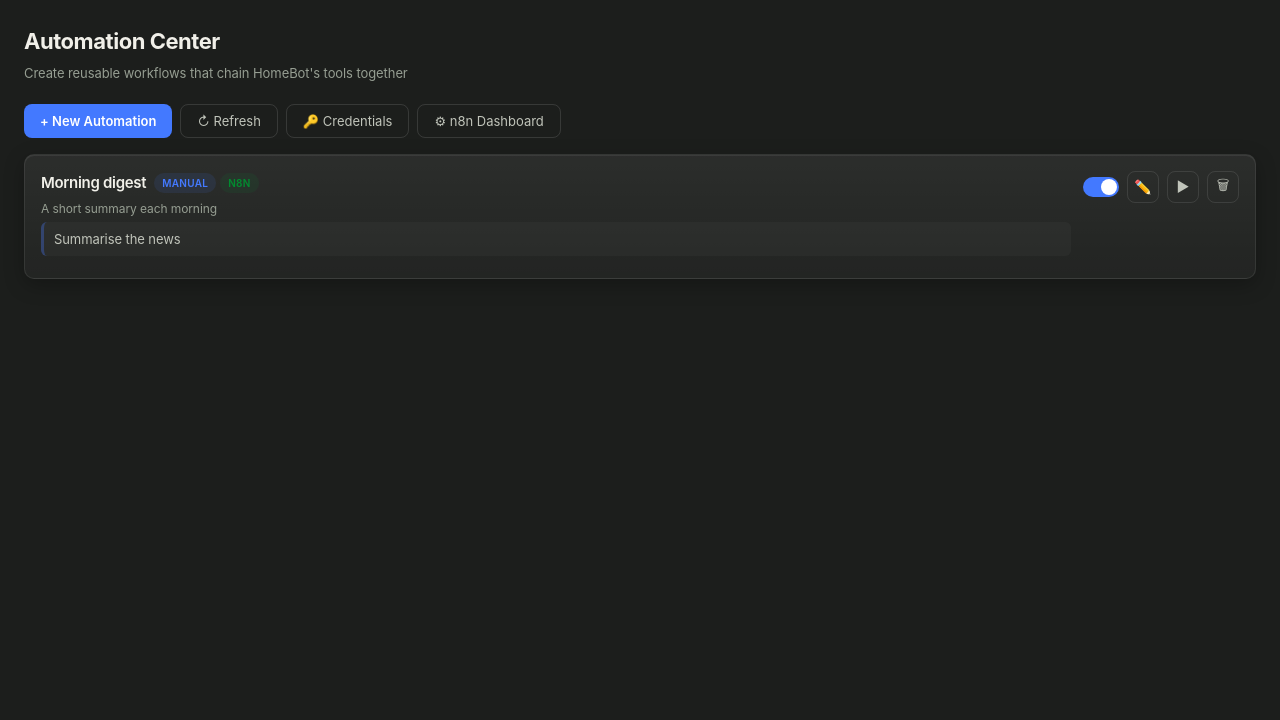
Test case: what actually reaches the handler › an edited description is sent, not just displayed
The width and height of the screenshot is (1280, 720).
Expected: the heading "Morning digest" is shown, [41, 171, 146, 195]
Click the button named "Edit Morning digest". click: {"x": 1143, "y": 187}
box: [1127, 171, 1159, 203]
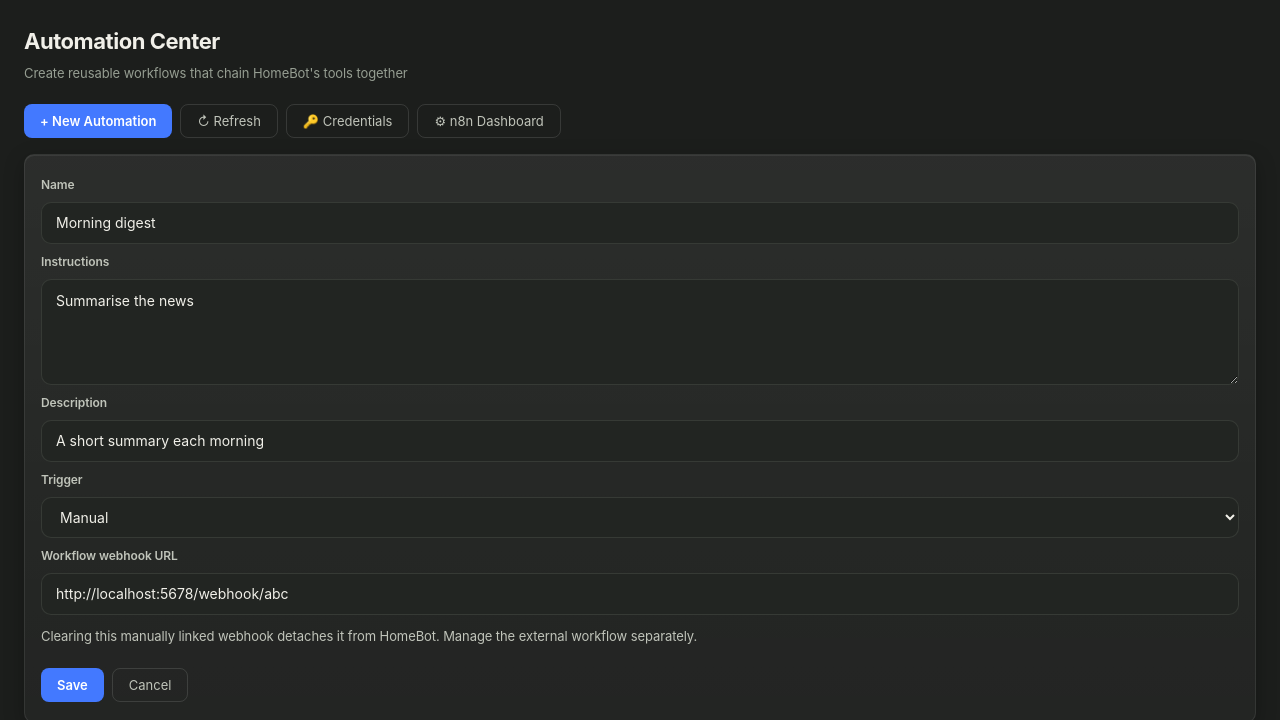
Expected: the field with test id "edit-description" is shown
Replace the text in the field with test id "edit-description" with "Now a weekly digest". click: {"x": 640, "y": 441}
box: [41, 420, 1239, 462]
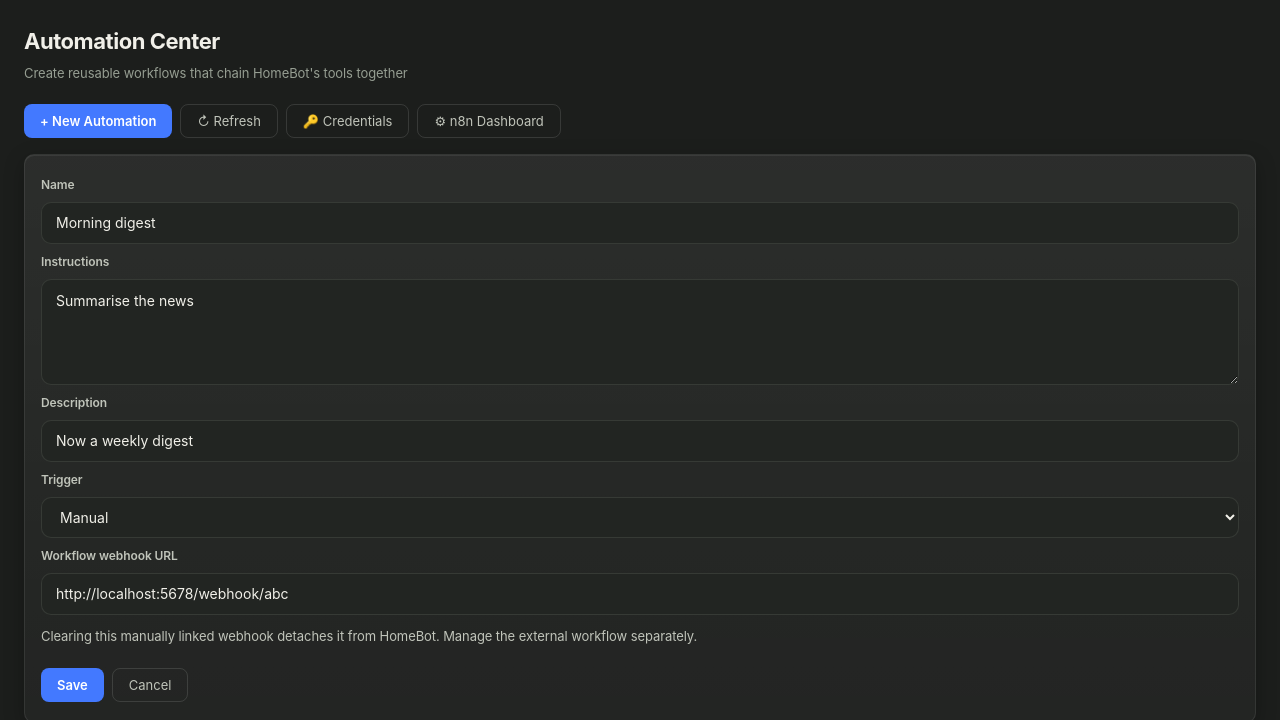
Click the button "Save". click: {"x": 72, "y": 685}
box: [41, 668, 104, 702]
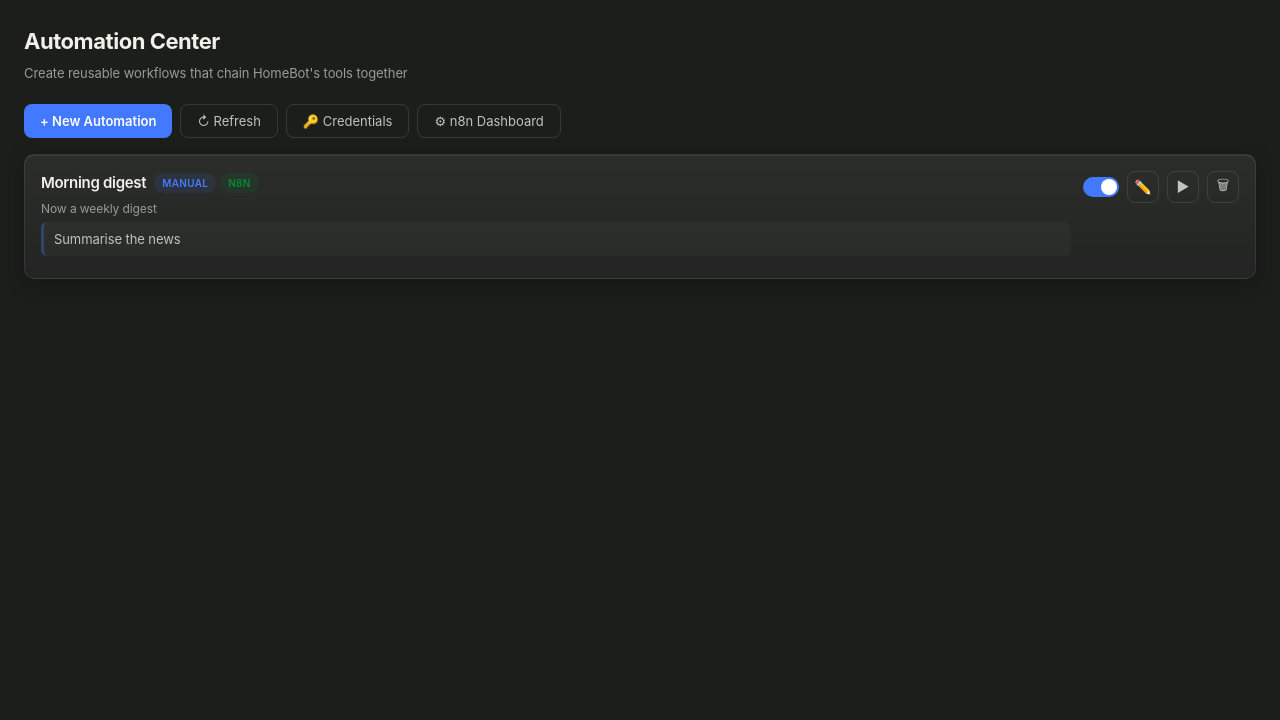
Expected: the text "Now a weekly digest" is shown, [41, 201, 157, 216]
